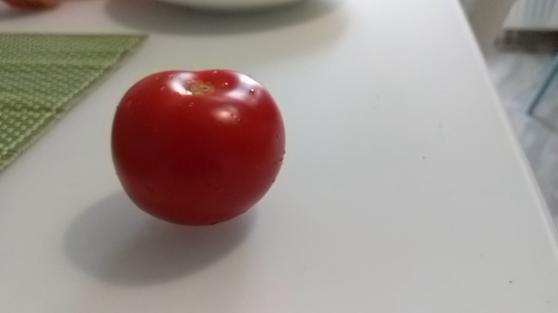tomato: (111, 66, 286, 228)
